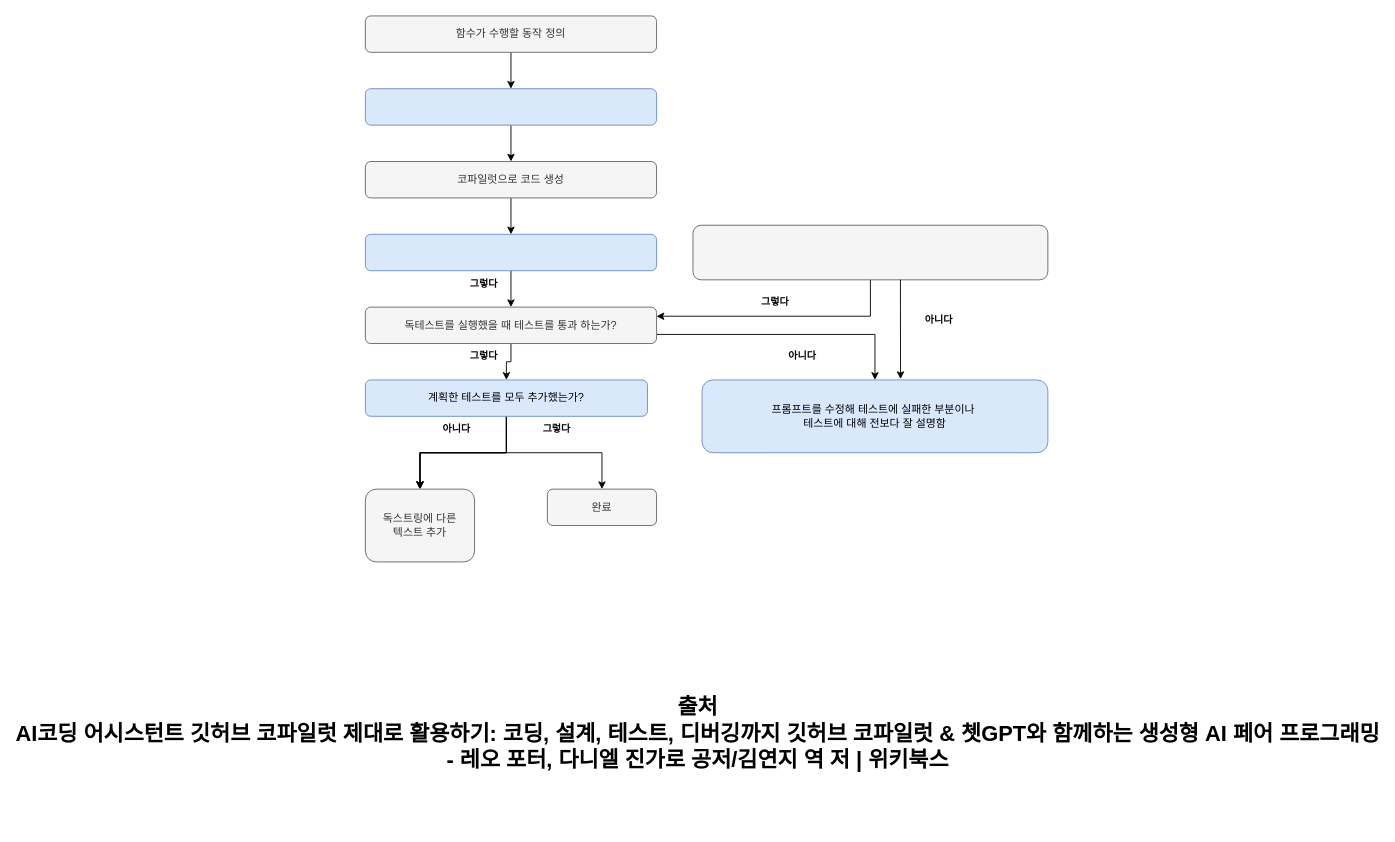
Some shapes in this 1395 by 842 pixel diagram are drawn without their labels. The shapes that lost their labels are listed below. From the top down, each one's centre as x and y in pixels, then its label:
pixel 510 106: 독테스트를 포함해 함수를 설명하는 프롬프트 작성
pixel 510 252: 생성된 코드가 합리적인지 확인
pixel 870 252: [Ctrl + Enter]를 사용해 대안 탐색, 쓸 만한 코드가 있는가?
